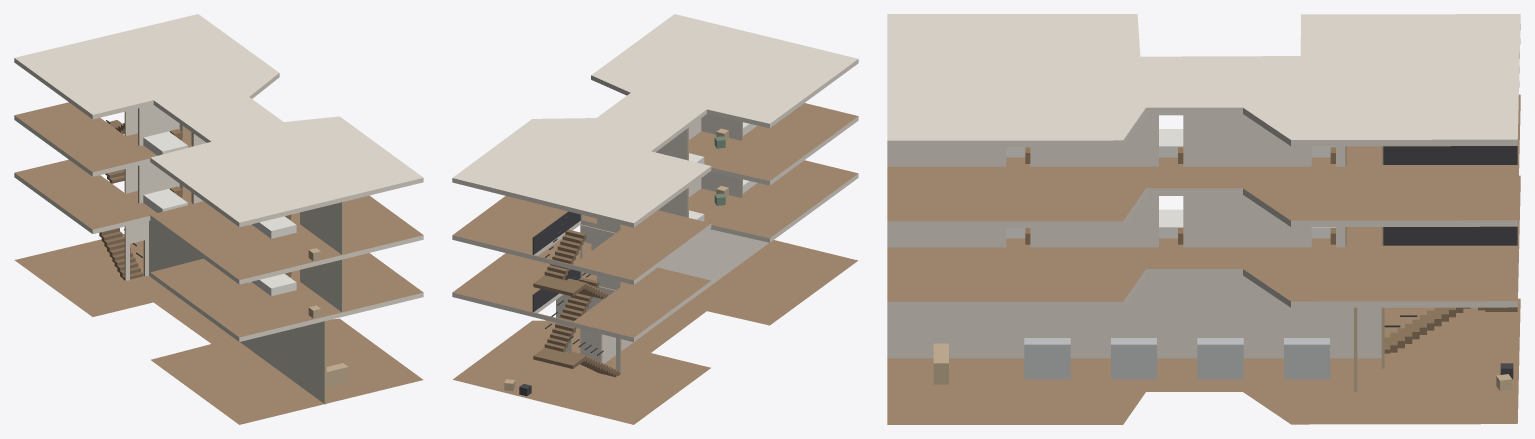
Rendered from interior.glb.
3 views of the same model, side by side, from view 1: azimuth 30°, elevation 25°; view 2: azimuth 150°, elevation 25°; view 3: azimuth 270°, elevation 25° (orthographic). The views are drawn at different scales.
Parts seen in each view (by area): view 1: slabs, partitions, coarse-s2, coarse-s1, stair, coarse-s0; view 2: slabs, partitions, stair, coarse-s1, coarse-s2; view 3: slabs, partitions, coarse-s0, stair, coarse-s1, coarse-s2.
Boxes of the visible parts, box(x1,y1,x2,y2) form: slabs: box(14, 14, 423, 424); partitions: box(124, 105, 343, 404); coarse-s2: box(143, 129, 320, 260); coarse-s1: box(143, 186, 320, 318); stair: box(99, 120, 143, 280); coarse-s0: box(326, 363, 348, 387); slabs: box(452, 14, 858, 424); partitions: box(556, 114, 768, 373); stair: box(532, 211, 620, 377); coarse-s1: box(689, 179, 757, 221); coarse-s2: box(689, 122, 757, 164); slabs: box(887, 14, 1520, 424); partitions: box(887, 114, 1384, 391); coarse-s0: box(933, 338, 1513, 391); stair: box(1383, 146, 1517, 353); coarse-s1: box(1006, 209, 1335, 244); coarse-s2: box(1006, 129, 1335, 163).
Bounding box in the file's own units: 11.08 × 11.63 × 23.43.
